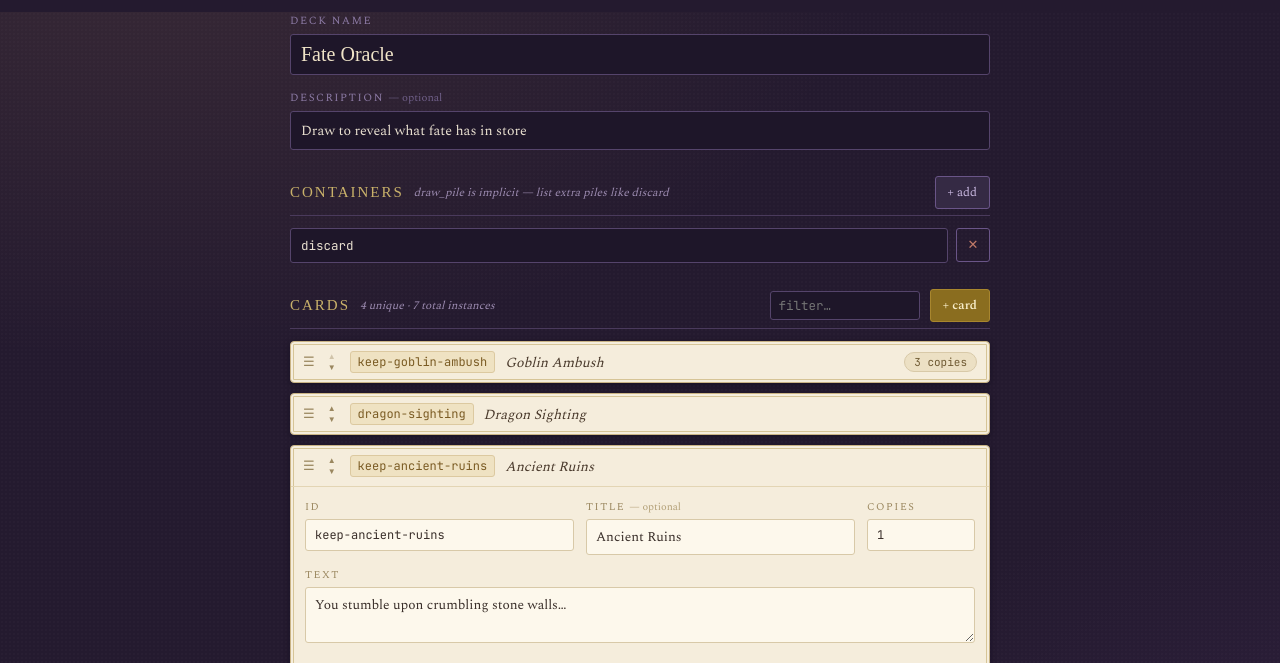
Test: reordering › disables ▲ on the first visible row and ▼ on the last visible row, even with hidden cards on either side
Type "keep" into the field with placeholder "filter…" at (844, 306), box [770,291,920,320]
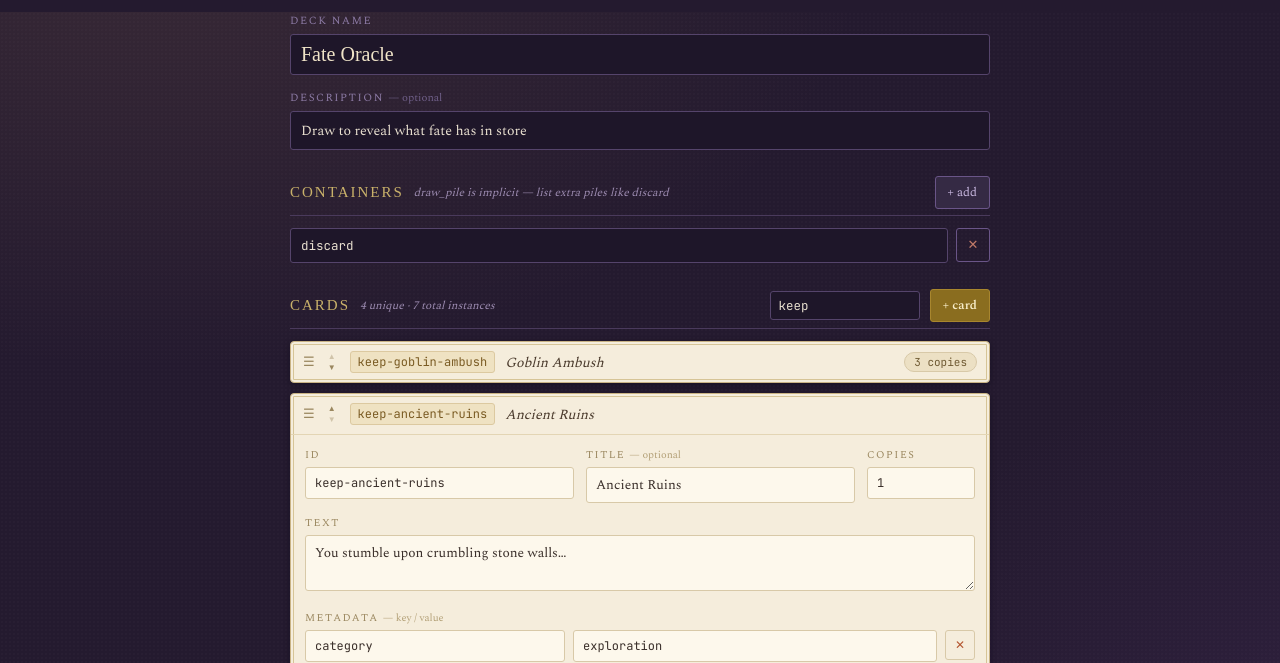
Expected: the button titled "Move up" next to "keep-goblin-ambush" is disabled, [324,352,340,362]
Expected: the button titled "Move down" next to "keep-ancient-ruins" is disabled, [324,414,340,424]
